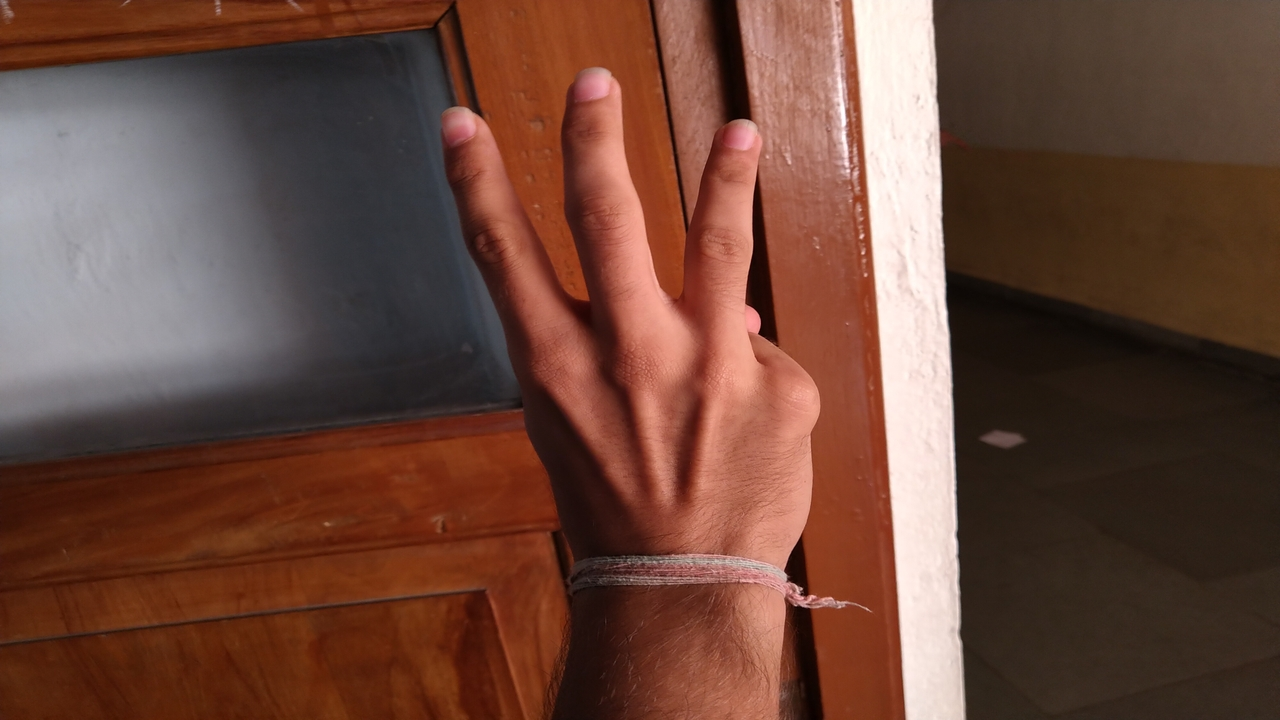fingertip: (562, 62, 626, 122), (430, 98, 494, 156), (710, 112, 770, 166)
